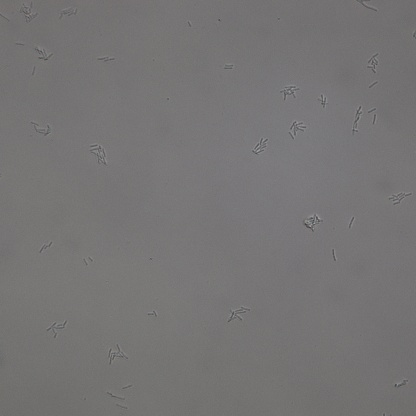R(colony): (105, 344, 128, 364), (226, 307, 251, 324), (20, 1, 39, 23), (89, 142, 107, 165), (388, 189, 411, 207), (47, 319, 67, 338), (289, 120, 307, 141), (250, 137, 268, 156), (303, 214, 323, 231), (280, 84, 300, 100), (351, 105, 362, 133), (30, 121, 51, 135), (366, 54, 379, 74), (35, 47, 55, 60), (58, 6, 78, 19), (98, 55, 115, 63), (394, 379, 408, 388), (318, 95, 327, 108), (224, 63, 233, 70)
